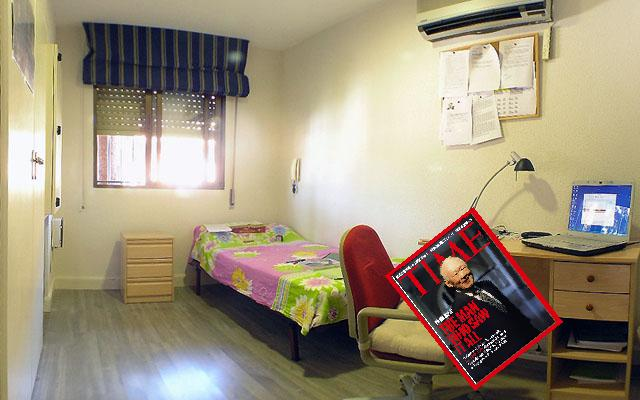times: (383, 206, 561, 398)
